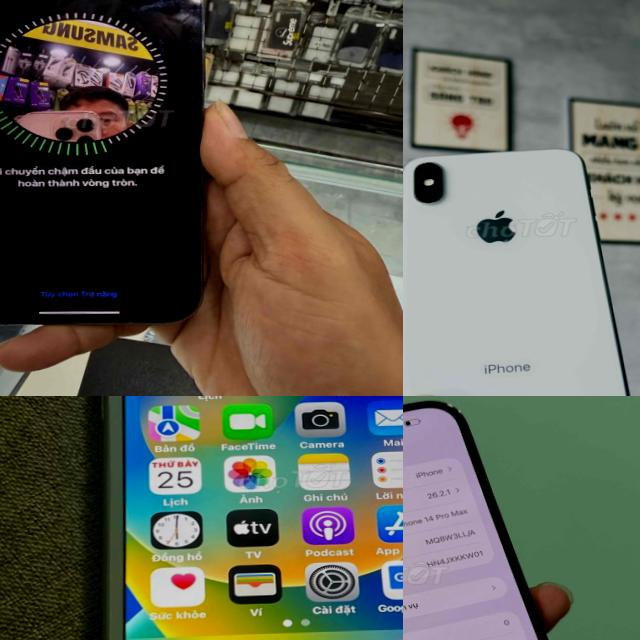gen_12_13: (0, 0, 219, 329)
gen_14: (403, 398, 594, 640)
gen_7_8: (72, 396, 403, 640)
gen_x_xs: (403, 139, 640, 396)
